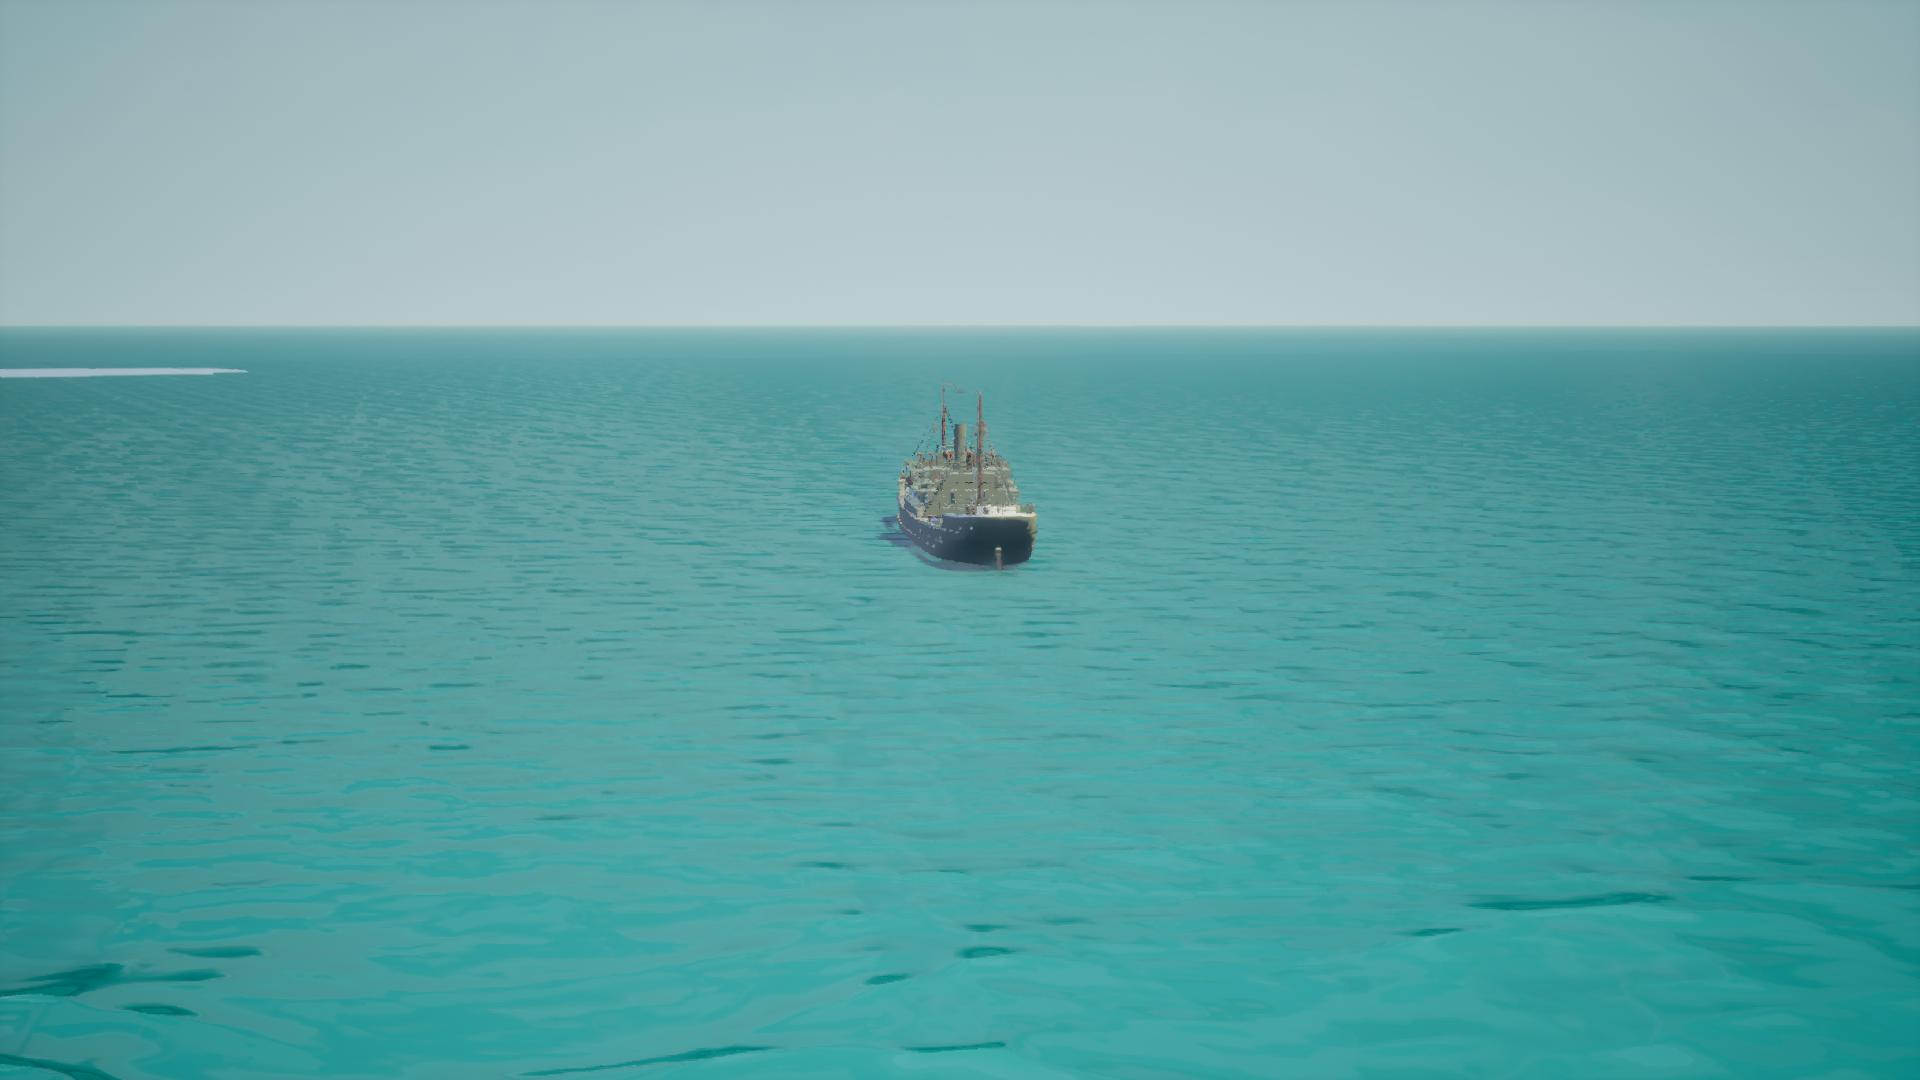Fishing Boat: (890, 386, 1038, 572)
